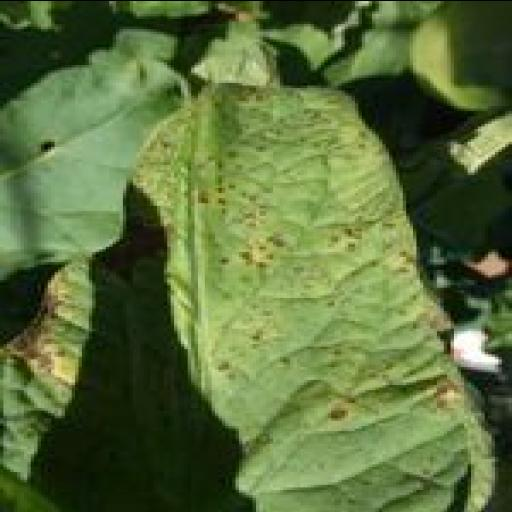Septoria: (25, 77, 501, 512)
